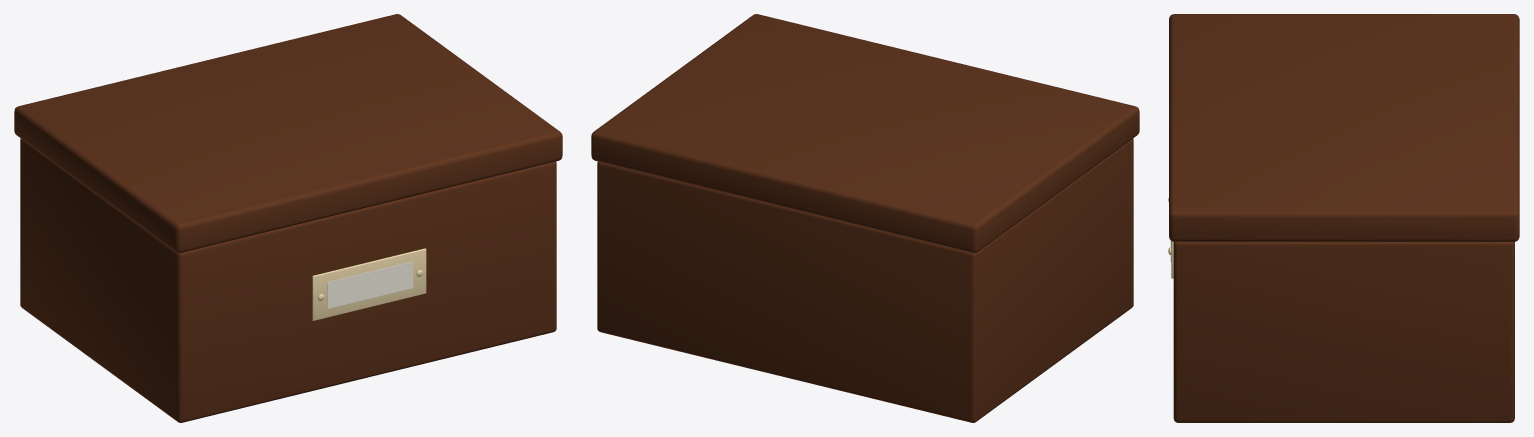
Rendered from storagebox.fbx.
The picture shows the model from 3 angles, left to right: view 1: azimuth 30°, elevation 25°; view 2: azimuth 150°, elevation 25°; view 3: azimuth 270°, elevation 25°; orthographic projection. The views are drawn at different scales.
Parts seen in each view (by area): view 1: Box_Body, Box_Lid, Label_Plate, Label_Card; view 2: Box_Body, Box_Lid; view 3: Box_Lid, Box_Body.
Part boxes in pixels (<box>): Box_Body: <box>20,138,556,422</box>; Box_Lid: <box>14,14,562,252</box>; Label_Plate: <box>312,248,426,320</box>; Label_Card: <box>327,261,413,308</box>; Box_Body: <box>597,138,1133,422</box>; Box_Lid: <box>591,14,1139,252</box>; Box_Lid: <box>1169,14,1519,241</box>; Box_Body: <box>1173,242,1514,422</box>.
Size of the model in its own units: 30.6 by 15.2 by 22.64.
